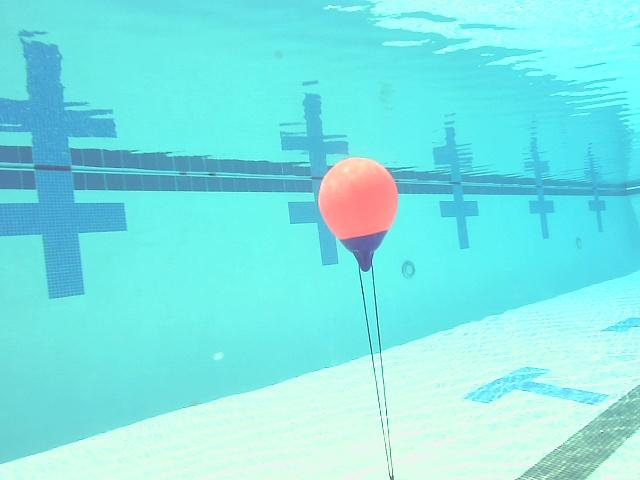buoy: (319, 157, 399, 272)
